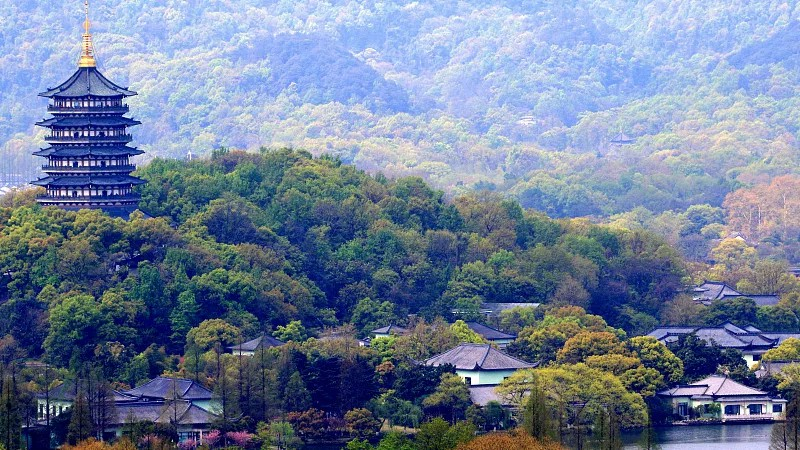Leifeng: (31, 2, 148, 221)
